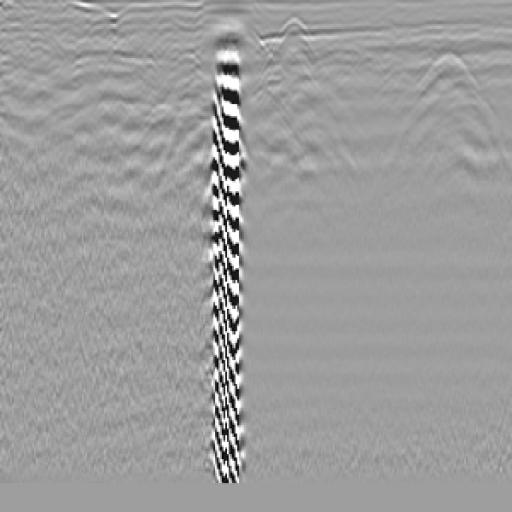metalic: (247, 20, 359, 181)
nonmetalic: (404, 44, 498, 125)
